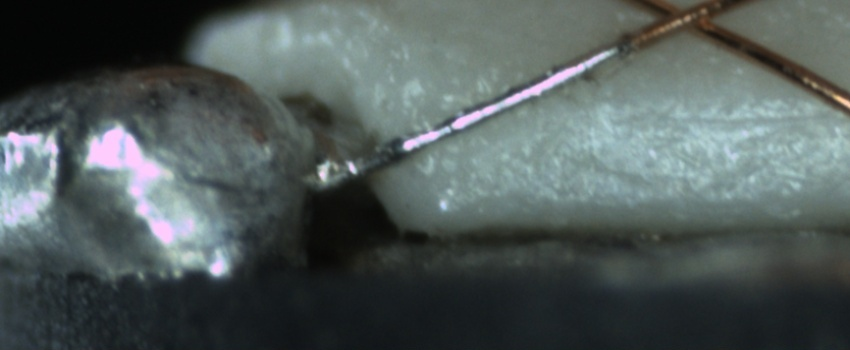CL: (630, 0, 732, 40)
DL: (617, 85, 850, 147)
TS: (312, 43, 623, 191)
